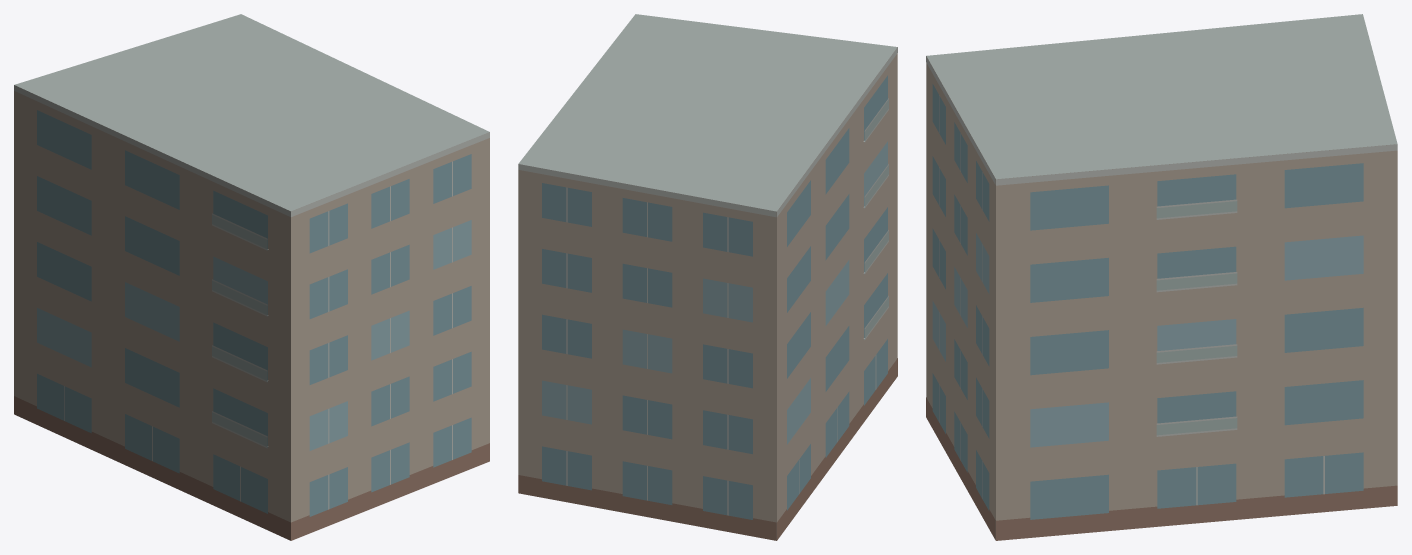
The model's file is survey-upis-32649515.glb.
The picture shows the model from 3 angles, left to right: view 1: azimuth 30°, elevation 25°; view 2: azimuth 150°, elevation 25°; view 3: azimuth 270°, elevation 25°; orthographic projection. The views are drawn at different scales.
Visible parts, largest first — view 1: survey-upis-32649515.tmp; view 2: survey-upis-32649515.tmp; view 3: survey-upis-32649515.tmp.
Part boxes in pixels (x1,y1,x2,y2): survey-upis-32649515.tmp: (14,14,489,540); survey-upis-32649515.tmp: (518,14,897,540); survey-upis-32649515.tmp: (926,14,1397,540).
Size of the model in its own units: 13.49 by 13.75 by 16.26.
